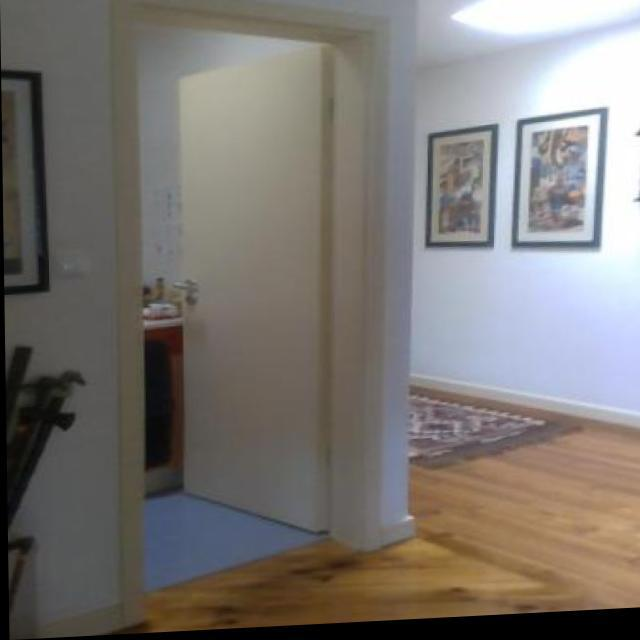door_handle: (161, 278, 204, 302)
